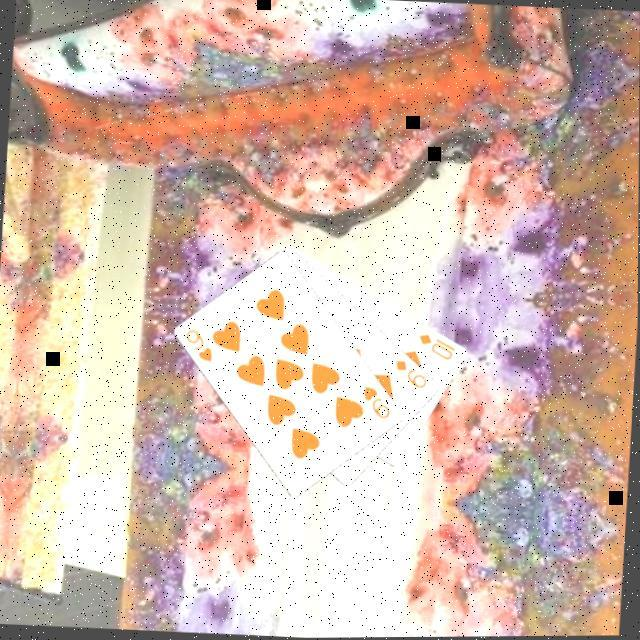10D: (416, 332, 462, 366)
9D: (393, 358, 434, 394)
9H: (362, 384, 398, 425), (184, 328, 220, 368)
